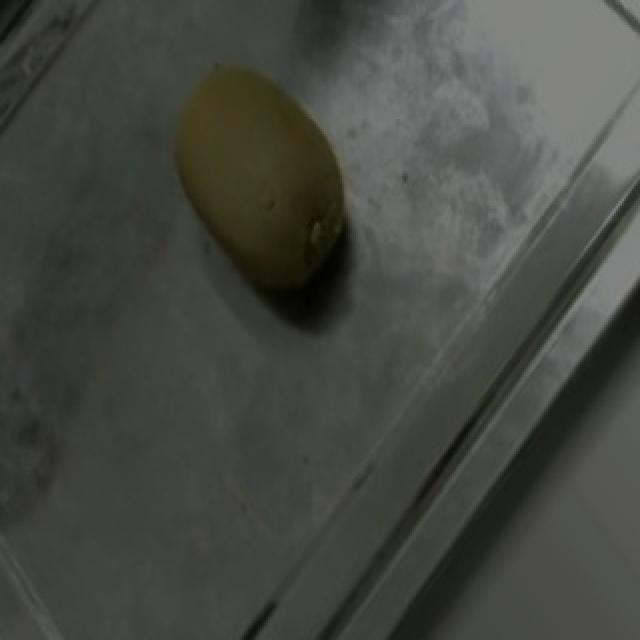Fruit: (130, 35, 392, 310)
